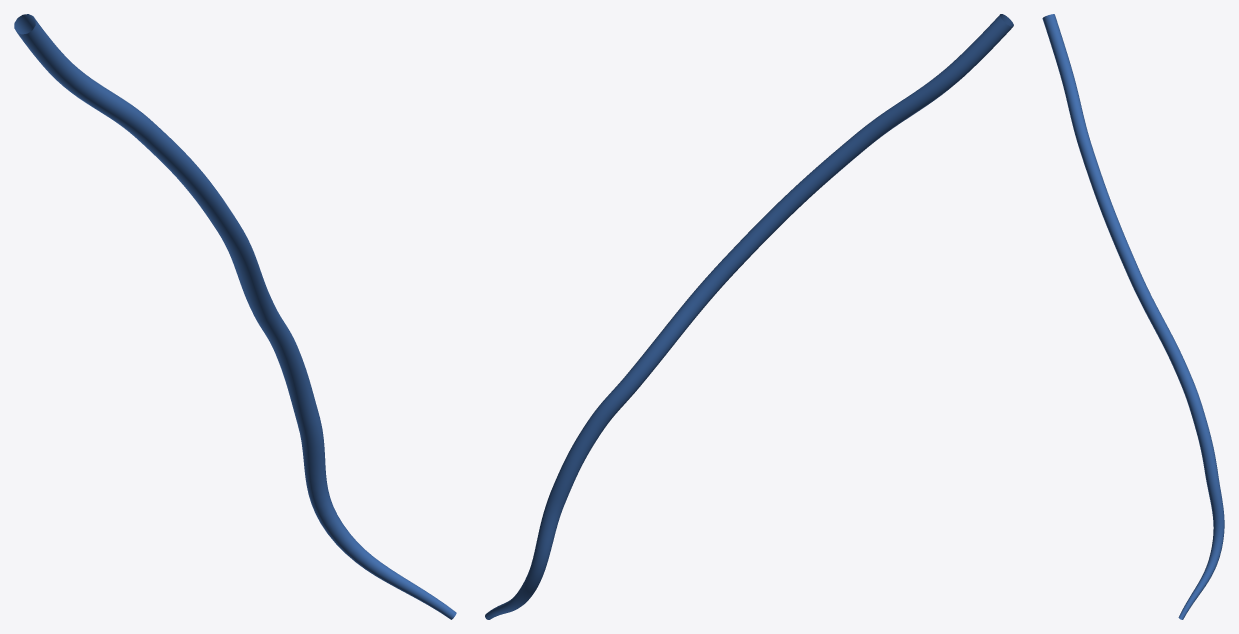
The picture shows the model from 3 angles, left to right: view 1: azimuth 30°, elevation 25°; view 2: azimuth 150°, elevation 25°; view 3: azimuth 270°, elevation 25°; orthographic projection. The views are drawn at different scales.
Visible parts, largest first — view 1: 右侧颏下静脉; view 2: 右侧颏下静脉; view 3: 右侧颏下静脉.
Part boxes in pixels (bbox=[...]): 右侧颏下静脉: bbox=[14, 14, 456, 619]; 右侧颏下静脉: bbox=[485, 14, 1013, 619]; 右侧颏下静脉: bbox=[1042, 14, 1224, 619].
Bounding box in the file's own units: 0.0407 × 0.0572 × 0.0206.
